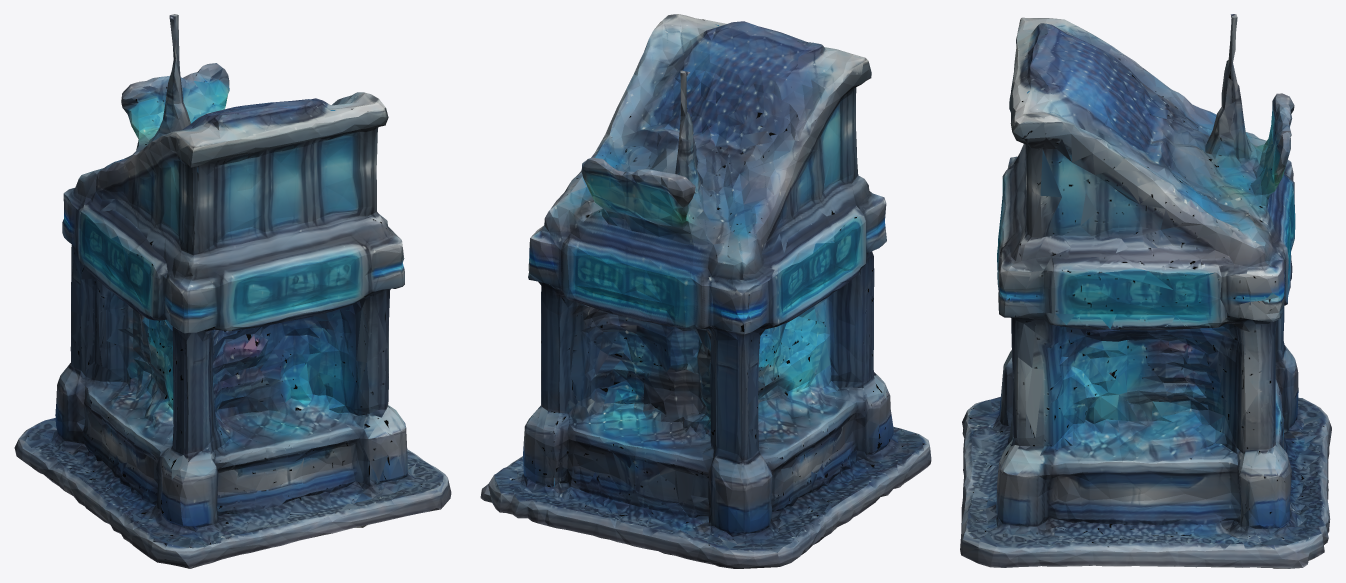
Rendered from shop_scifi_1.glb.
The picture shows the model from 3 angles, left to right: view 1: azimuth 30°, elevation 25°; view 2: azimuth 150°, elevation 25°; view 3: azimuth 270°, elevation 25°; orthographic projection. The views are drawn at different scales.
Visible parts, largest first — view 1: zzzz21; view 2: zzzz21; view 3: zzzz21.
Boxes of the visible parts, left/top/right/bottom form: zzzz21: left=14, top=14, right=451, bottom=568; zzzz21: left=480, top=14, right=931, bottom=568; zzzz21: left=960, top=14, right=1331, bottom=568.
Size of the model in its own units: 3.52 by 4.88 by 3.5.
Materials: 1 (1 with a texture image).
